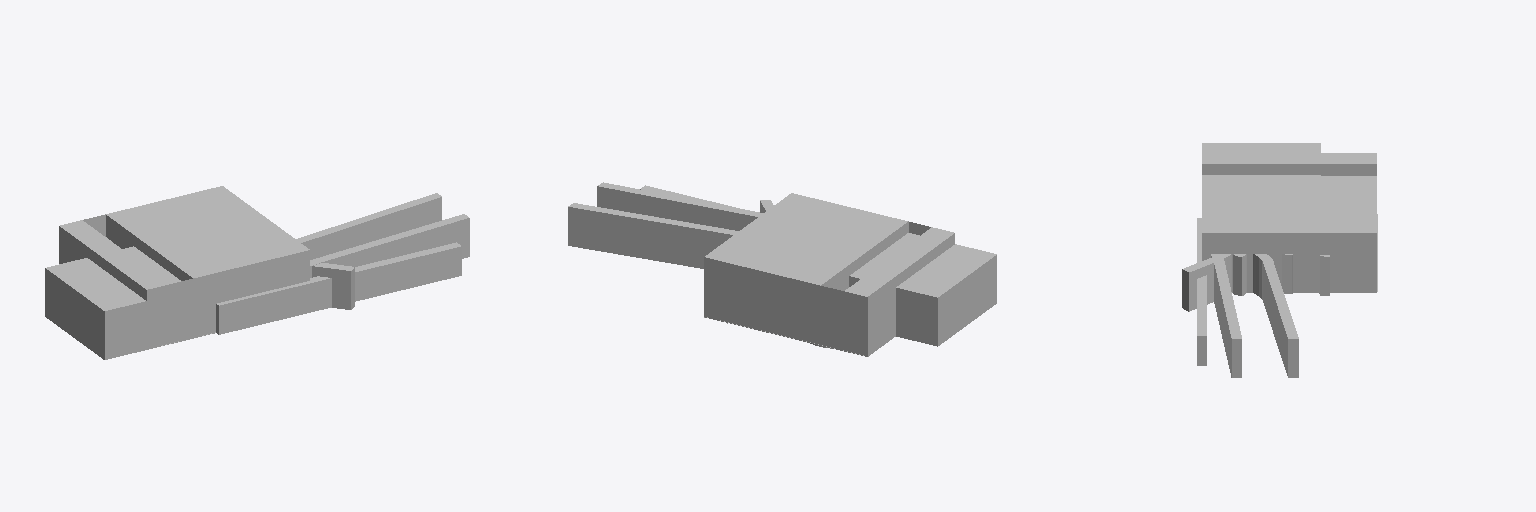
The model's file is colourlabyrinth.obj.
3 views of the same model, side by side, from view 1: azimuth 30°, elevation 25°; view 2: azimuth 150°, elevation 25°; view 3: azimuth 270°, elevation 25° (orthographic).
Visible parts, largest first — view 1: Cube_Cube.001, Path_cube_2_Cube.011, Room_Volume_Cube.019, Room.007_Cube.010, 1_Blue_Cube.012, Room.005_Cube.008, 5_Yellow_Cube.016, 4_Orange_Cube.015, 3_Red_Cube.014, Room.014_Cube.018, 2_Purple_Cube.013, Room.006_Cube.009 (+5 smaller); view 2: Path_cube_2_Cube.011, Room_Volume_Cube.019, Room.007_Cube.010, 1_Blue_Cube.012, 4_Orange_Cube.015, 5_Yellow_Cube.016, Room.014_Cube.018, 2_Purple_Cube.013, 3_Red_Cube.014, Room.006_Cube.009, Room.005_Cube.008, Room.002_Cube.005 (+3 smaller); view 3: 1_Blue_Cube.012, Path_cube_2_Cube.011, 3_Red_Cube.014, 2_Purple_Cube.013, 4_Orange_Cube.015, 5_Yellow_Cube.016, Room.014_Cube.018, Room.006_Cube.009, Tunnel_Cube.003, Room_Volume_Cube.019, Cube_Cube.001, Path_cube_3_Cube.020.
Part boxes in pixels (x1,y1,x2,y2): Cube_Cube.001: (216, 242, 461, 334); Path_cube_2_Cube.011: (296, 193, 469, 277); Room_Volume_Cube.019: (45, 246, 169, 359); Room.007_Cube.010: (59, 226, 169, 349); 1_Blue_Cube.012: (199, 186, 309, 285); Room.005_Cube.008: (106, 216, 216, 338); 5_Yellow_Cube.016: (106, 209, 215, 280); 4_Orange_Cube.015: (130, 203, 238, 301); 3_Red_Cube.014: (153, 197, 262, 266); Room.014_Cube.018: (60, 220, 168, 289); 2_Purple_Cube.013: (176, 192, 286, 260); Room.006_Cube.009: (83, 214, 192, 343); Path_cube_2_Cube.011: (568, 182, 763, 268); Room_Volume_Cube.019: (849, 250, 996, 345); Room.007_Cube.010: (844, 233, 954, 356); 1_Blue_Cube.012: (704, 193, 814, 322); 4_Orange_Cube.015: (774, 210, 883, 336); 5_Yellow_Cube.016: (798, 216, 908, 288); Room.014_Cube.018: (845, 227, 953, 296); 2_Purple_Cube.013: (728, 199, 837, 267); 3_Red_Cube.014: (751, 204, 860, 273); Room.006_Cube.009: (821, 222, 930, 350); Room.005_Cube.008: (797, 221, 908, 345); Room.002_Cube.005: (727, 263, 750, 328); 1_Blue_Cube.012: (1202, 221, 1376, 292); Path_cube_2_Cube.011: (1211, 254, 1298, 377); 3_Red_Cube.014: (1202, 198, 1376, 209); 2_Purple_Cube.013: (1202, 210, 1376, 220); 4_Orange_Cube.015: (1202, 187, 1376, 197); 5_Yellow_Cube.016: (1202, 176, 1376, 186); Room.014_Cube.018: (1202, 153, 1376, 163); Room.006_Cube.009: (1202, 164, 1376, 175); Tunnel_Cube.003: (1182, 254, 1231, 311); Room_Volume_Cube.019: (1202, 143, 1320, 292); Cube_Cube.001: (1197, 218, 1206, 365); Path_cube_3_Cube.020: (1233, 254, 1292, 295).
Size of the model in its own units: 81.44 by 12.59 by 36.25.